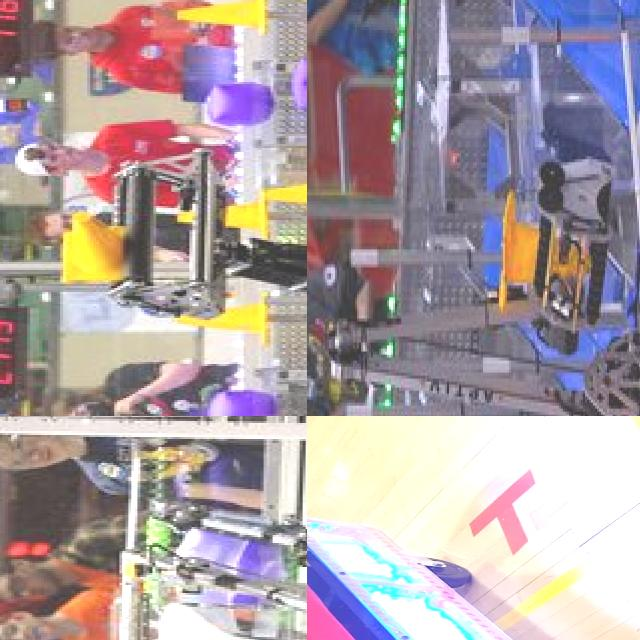FRC-Robots: (307, 35, 640, 416), (307, 416, 640, 640), (55, 126, 307, 416), (104, 452, 307, 640)
